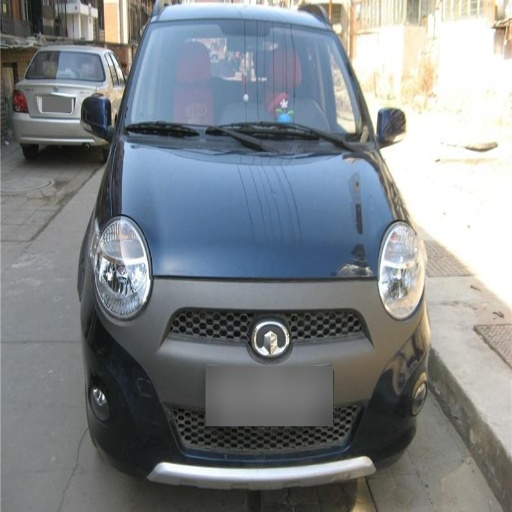front_bumper: (90, 276, 421, 485)
front_right_light: (100, 234, 151, 316)
hood: (115, 132, 394, 276)
left_mirror: (377, 106, 407, 147)
